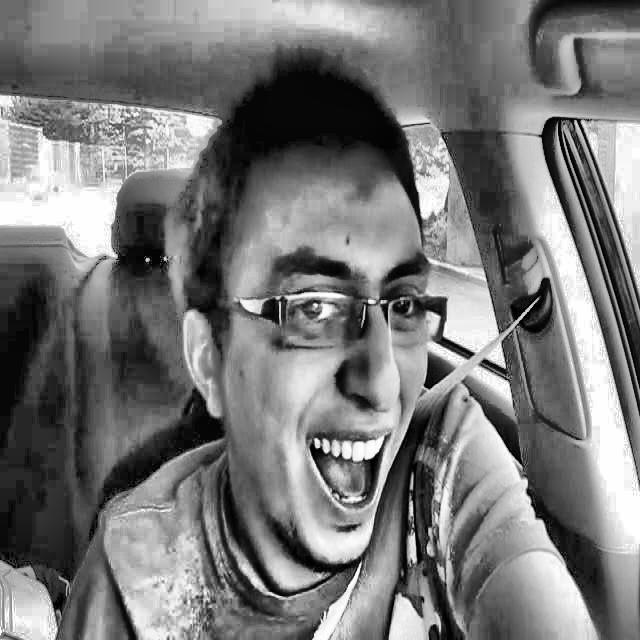open_eyes: (276, 284, 354, 341), (380, 283, 442, 340)
open_mouth: (288, 411, 418, 537)
